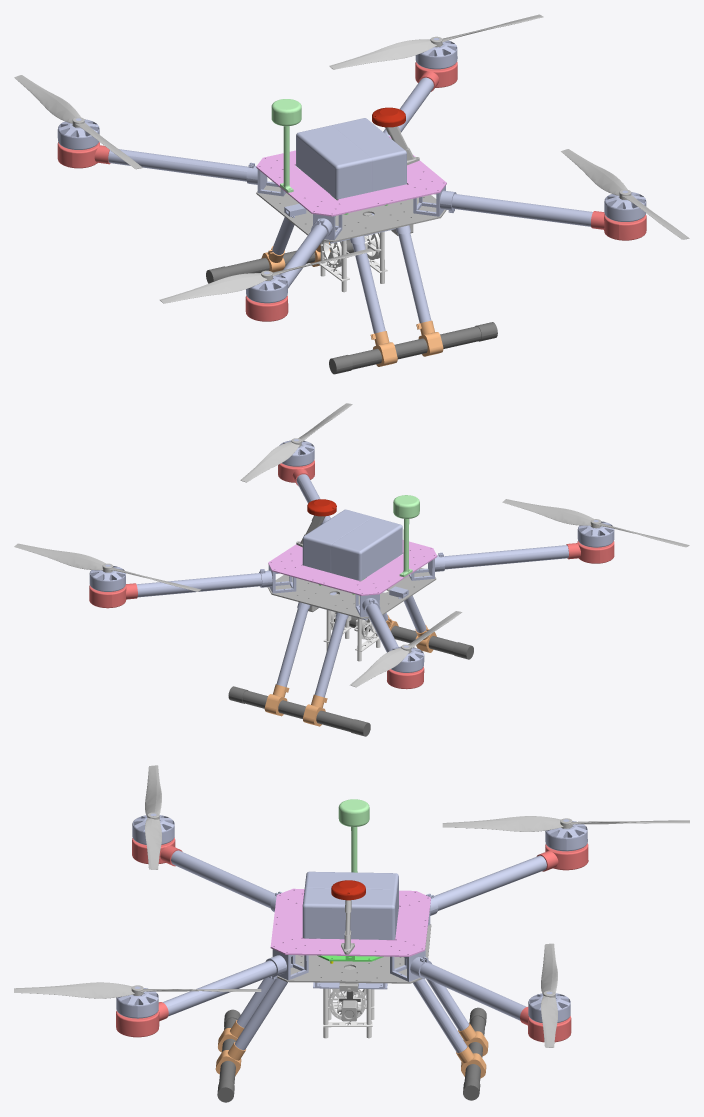
The picture shows the model from 3 angles, top to bottom: view 1: azimuth 30°, elevation 25°; view 2: azimuth 150°, elevation 25°; view 3: azimuth 270°, elevation 25°; orthographic projection. The views are drawn at different scales.
Parts seen in each view (by area): view 1: topplate, battrey1, bottom_plate, battery2, landingmount1, propeller3, propeller4, propeller4half2, propeller3half2, lidarANDmount, landarm, landingarm2 (+20 smaller); view 2: topplate, battrey1, bottom_plate, battery2, propeller2, landingmount2, propeller1, landingmount1, lidarANDmount, propeller3half, propeller4half1, landingarm3 (+14 smaller); view 3: topplate, battery2, bottom_plate, propeller4, propeller3, propeller1, propeller2, battrey1, propeller1half, propeller2half, droppingpully2, lidarANDmount (+23 smaller).
Boxes of the visible parts, left/top/right/bottom form: topplate: left=256, top=136, right=446, bottom=216; battrey1: left=296, top=125, right=372, bottom=199; bottom_plate: left=256, top=181, right=446, bottom=242; battery2: left=332, top=118, right=406, bottom=191; landingmount1: left=329, top=322, right=497, bottom=374; propeller3: left=452, top=194, right=592, bottom=226; propeller4: left=108, top=149, right=248, bottom=181; propeller4half2: left=159, top=270, right=272, bottom=303; propeller3half2: left=329, top=36, right=442, bottom=69; lidarANDmount: left=271, top=99, right=301, bottom=192; landarm: left=398, top=233, right=431, bottom=323; landingarm2: left=352, top=243, right=385, bottom=333; topplate: left=268, top=540, right=437, bottom=595; battrey1: left=331, top=517, right=402, bottom=580; bottom_plate: left=267, top=568, right=436, bottom=618; battery2: left=302, top=509, right=372, bottom=572; propeller2: left=444, top=545, right=568, bottom=569; landingmount2: left=228, top=686, right=370, bottom=736; propeller1: left=136, top=573, right=261, bottom=597; landingmount1: left=334, top=616, right=473, bottom=659; lidarANDmount: left=393, top=495, right=419, bottom=577; propeller3half: left=14, top=543, right=105, bottom=570; propeller4half1: left=502, top=499, right=594, bottom=525; landingarm3: left=276, top=608, right=308, bottom=687; topplate: left=270, top=888, right=430, bottom=956; battery2: left=302, top=888, right=396, bottom=939; bottom_plate: left=277, top=924, right=431, bottom=983; propeller4: left=434, top=855, right=546, bottom=910; propeller3: left=162, top=960, right=276, bottom=1016; propeller1: left=420, top=962, right=526, bottom=1020; propeller2: left=171, top=850, right=275, bottom=908; battrey1: left=304, top=871, right=398, bottom=922; propeller1half: left=14, top=982, right=134, bottom=998; propeller2half: left=442, top=816, right=563, bottom=831; droppingpully2: left=323, top=988, right=372, bottom=1038; lidarANDmount: left=338, top=799, right=369, bottom=872.
Size of the model in its own units: 1092 by 411 by 1093.
